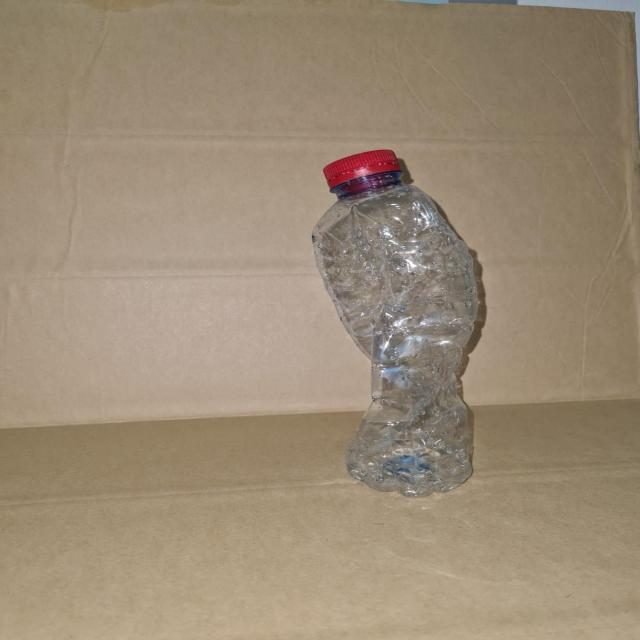bottle: (300, 151, 518, 527)
